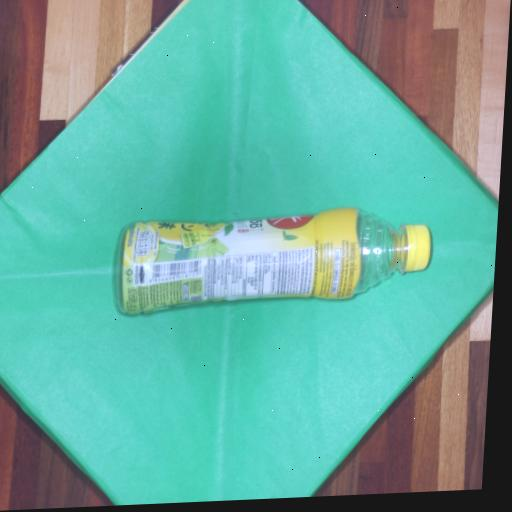bottle: (101, 192, 445, 319)
